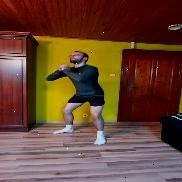squats: (42, 44, 117, 155)
